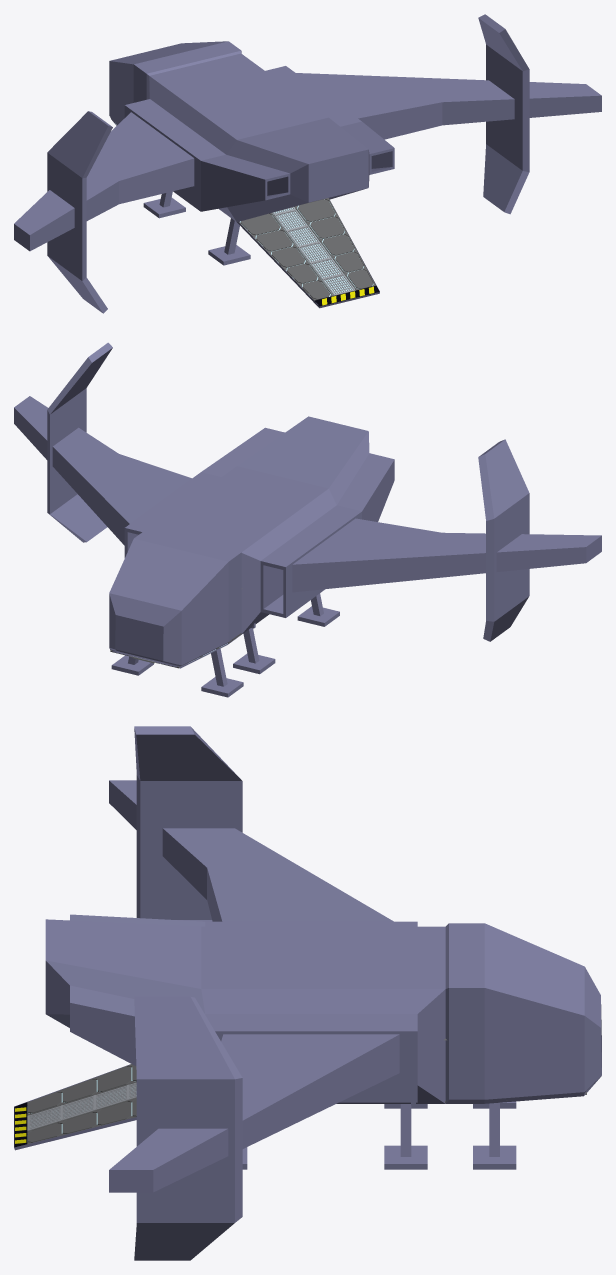
Rendered from Nave.fbx.
3 renders of one model, top to bottom at view 1: azimuth 30°, elevation 25°; view 2: azimuth 150°, elevation 25°; view 3: azimuth 270°, elevation 25°, orthographic. The views are drawn at different scales.
Visible parts, largest first — view 1: Nave_Casco, Rampa, Suelo Emisivo; view 2: Nave_Casco; view 3: Nave_Casco, Rampa.
Boxes of the visible parts, x1,y1,x2,y2 form: Nave_Casco: (14,14,601,313); Rampa: (239,198,379,306); Suelo Emisivo: (115,123,373,296); Nave_Casco: (14,342,601,697); Nave_Casco: (14,726,601,1260); Rampa: (14,1064,136,1147).
Bounding box in the file's own units: 56.76 × 18.23 × 36.21.
